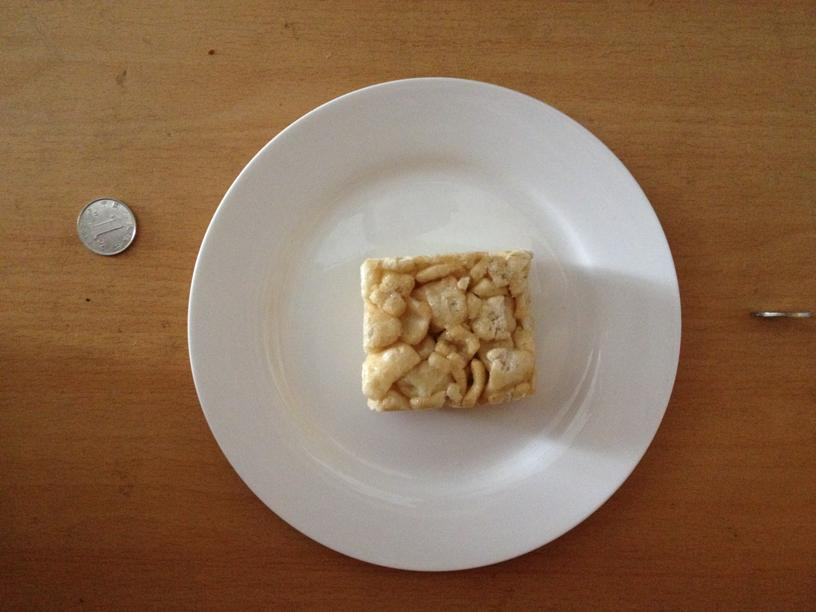coin: (76, 196, 137, 256)
sachima: (355, 256, 537, 407)
